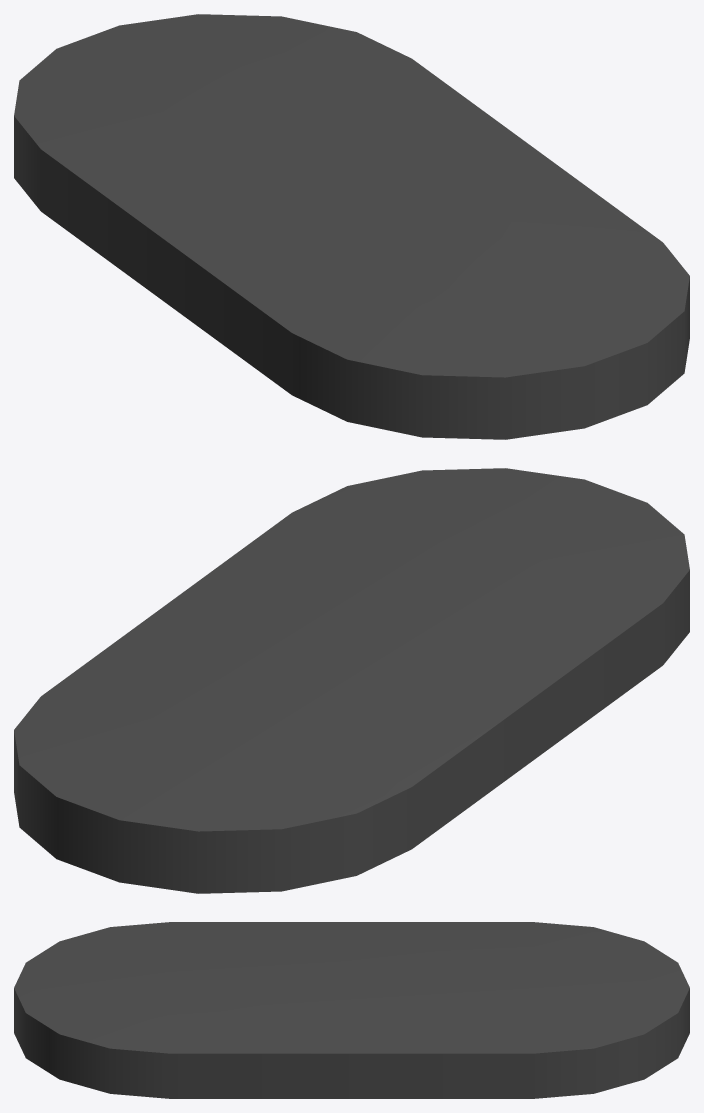
Rendered from Stylus_Touchstrip.obj.
3 renders of one model, top to bottom at view 1: azimuth 30°, elevation 25°; view 2: azimuth 150°, elevation 25°; view 3: azimuth 270°, elevation 25°, orthographic. The views are drawn at different scales.
Visible parts, largest first — view 1: Stylus_Touchstrip_Touchstrip; view 2: Stylus_Touchstrip_Touchstrip; view 3: Stylus_Touchstrip_Touchstrip.
Boxes of the visible parts, x1=… form: Stylus_Touchstrip_Touchstrip: x1=14, y1=14, x2=689, y2=439; Stylus_Touchstrip_Touchstrip: x1=14, y1=468, x2=689, y2=893; Stylus_Touchstrip_Touchstrip: x1=14, y1=922, x2=689, y2=1098.
Bounding box in the file's own units: 0.0112 × 0.00198 × 0.0244.
1 material, 1 textured.
